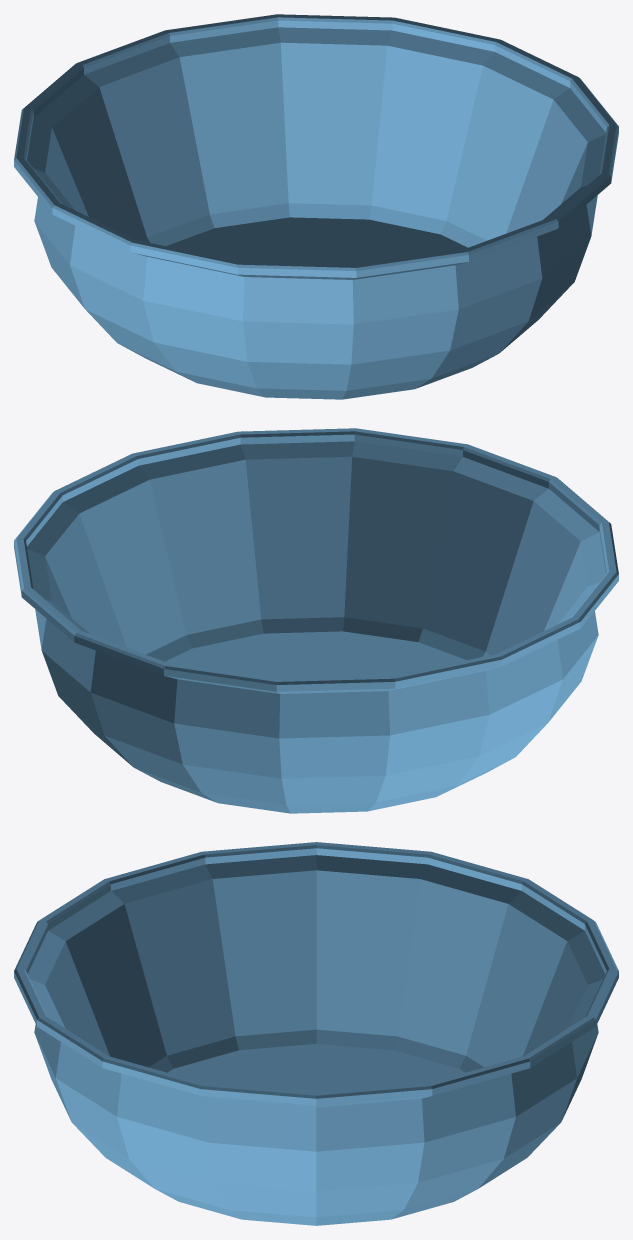
Rendered from Bowl 1.fbx.
3 views of the same model, one above another, from view 1: azimuth 30°, elevation 25°; view 2: azimuth 150°, elevation 25°; view 3: azimuth 270°, elevation 25° (orthographic).
Visible parts, largest first — view 1: Bowl 1; view 2: Bowl 1; view 3: Bowl 1.
Part boxes in pixels (x1,y1,x2,y2): Bowl 1: (14, 14, 618, 399); Bowl 1: (14, 428, 618, 813); Bowl 1: (14, 842, 618, 1225).
Size of the model in its own units: 0.6459 by 0.2119 by 0.6459.
